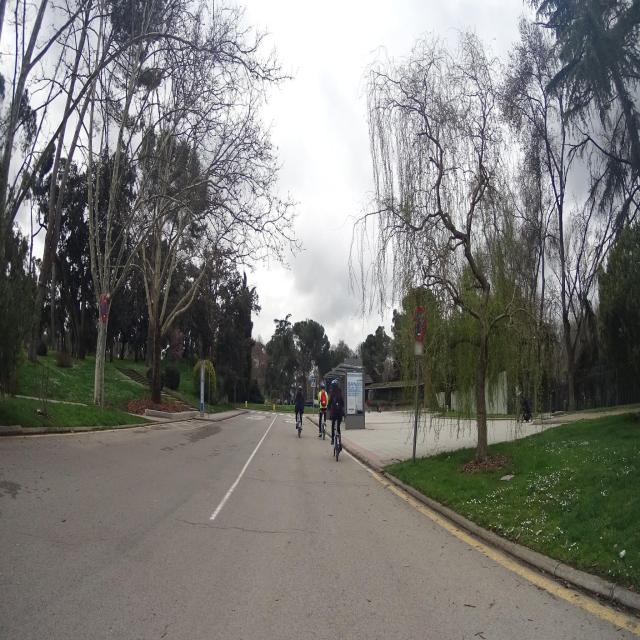forb_stopping: (415, 304, 427, 343), (101, 294, 107, 323)
